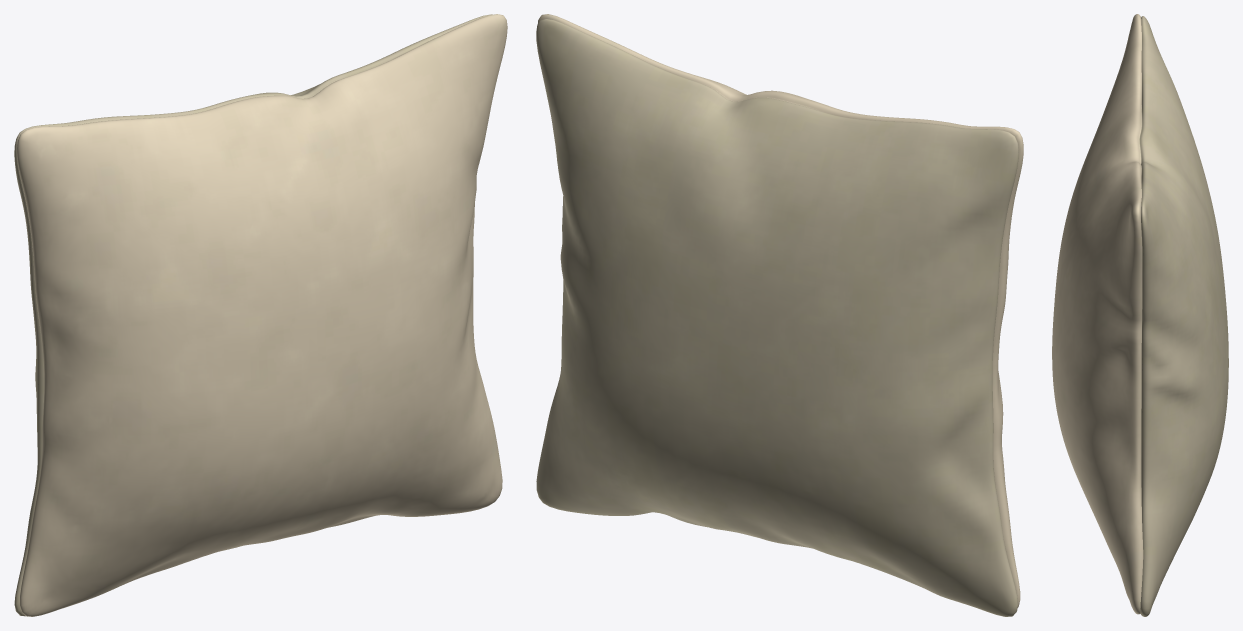
File: B074VKWJWP.glb
The picture shows the model from 3 angles, left to right: view 1: azimuth 30°, elevation 25°; view 2: azimuth 150°, elevation 25°; view 3: azimuth 270°, elevation 25°; orthographic projection. The views are drawn at different scales.
Visible parts, largest first — view 1: RootNode; view 2: RootNode; view 3: RootNode.
Boxes of the visible parts, box(x1,y1,x2,y2) form: RootNode: box(14, 14, 507, 616); RootNode: box(536, 14, 1023, 616); RootNode: box(1052, 14, 1228, 616).
Size of the model in its own units: 0.4367 by 0.4199 by 0.1624.
Materials: 1 (1 with a texture image).
